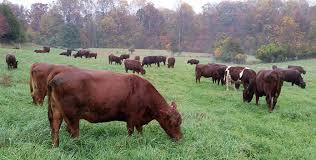cow: (50, 71, 184, 141), (30, 63, 78, 105), (244, 69, 281, 109), (192, 62, 227, 83), (273, 70, 307, 88), (228, 66, 247, 86), (122, 59, 147, 73), (140, 54, 163, 67), (7, 53, 20, 69), (289, 66, 307, 76), (109, 54, 124, 66), (166, 58, 179, 69)
